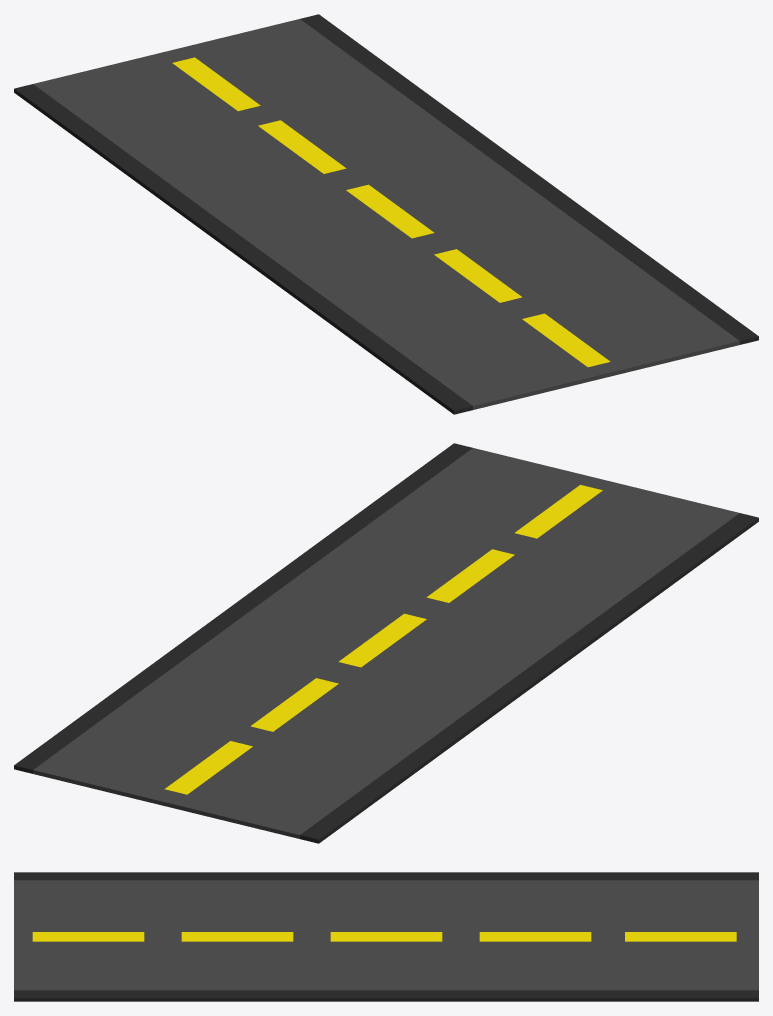
Rendered from road.obj.
The picture shows the model from 3 angles, top to bottom: view 1: azimuth 30°, elevation 25°; view 2: azimuth 150°, elevation 25°; view 3: azimuth 270°, elevation 25°; orthographic projection. The views are drawn at different scales.
Bounding box in the file's own units: 8 × 0.1 × 20.
Materials: 1 (1 with a texture image).
